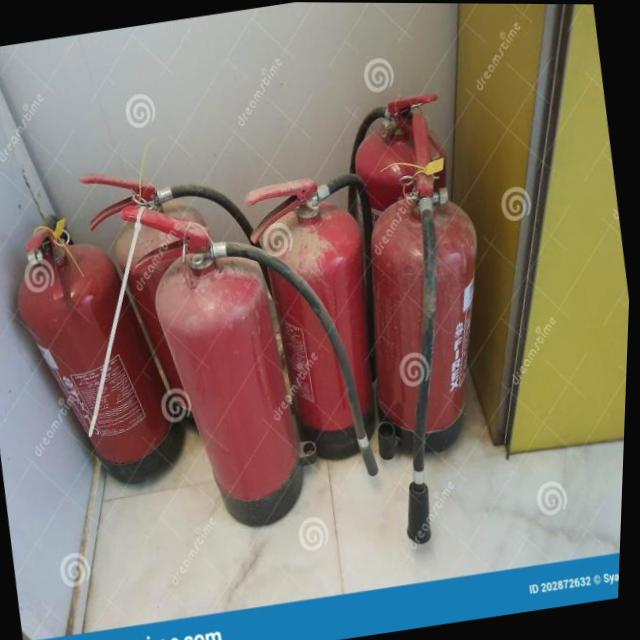FireExtinguisher: (106, 168, 400, 549), (324, 102, 536, 551), (66, 141, 314, 456), (0, 192, 208, 506), (231, 158, 418, 475), (319, 88, 486, 380)
